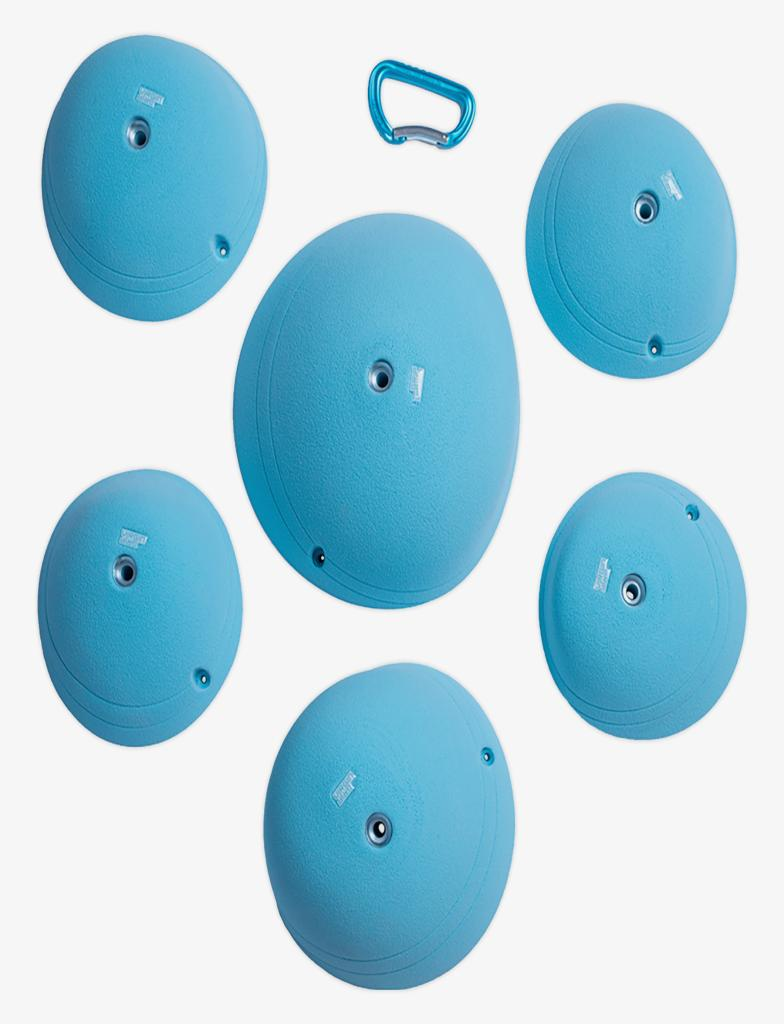sloper: (234, 214, 519, 606), (264, 664, 514, 988), (42, 35, 267, 321), (526, 104, 736, 377), (38, 470, 242, 745), (539, 473, 746, 738)
